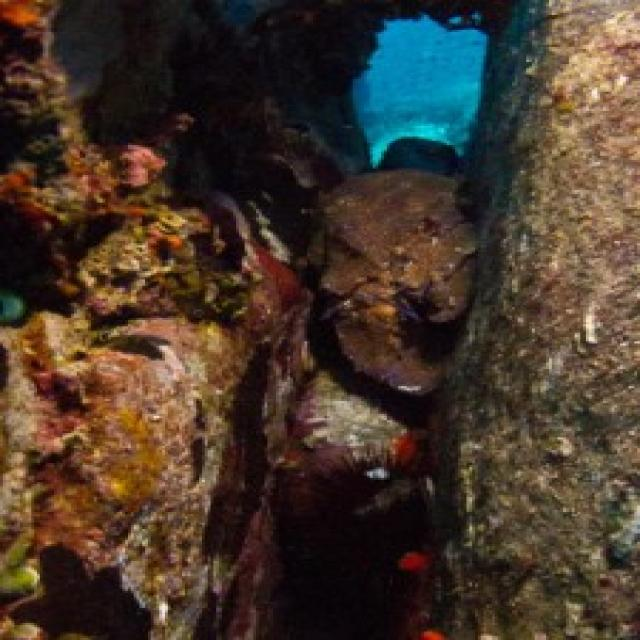lobsters: (310, 162, 480, 398)
